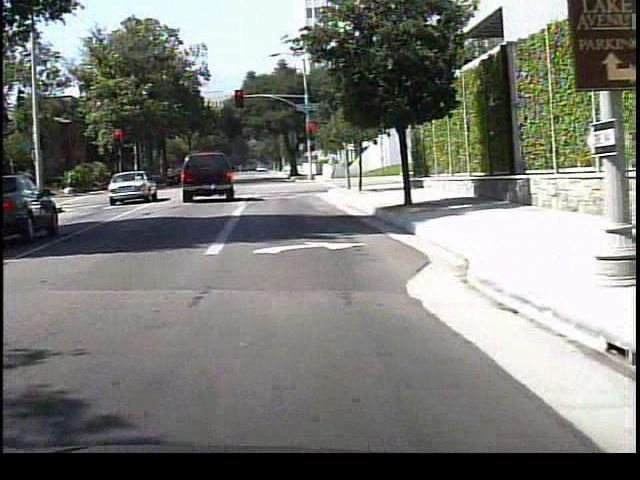person: (326, 152, 342, 180)
